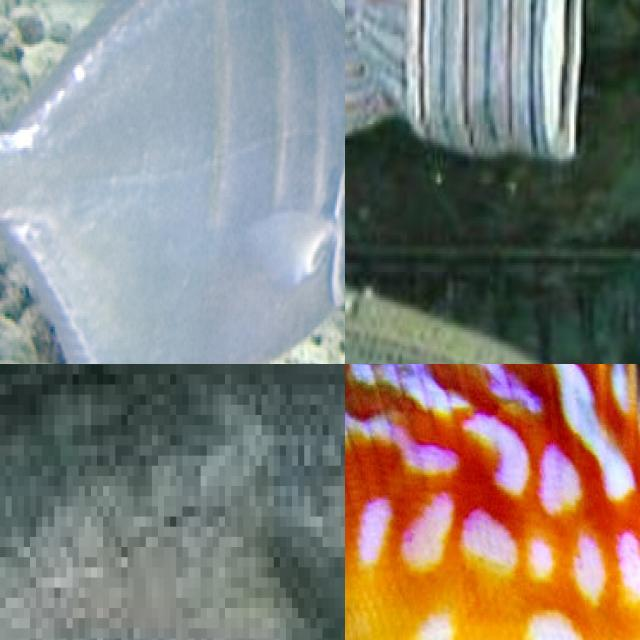fish: (0, 0, 345, 364), (0, 364, 345, 640), (345, 364, 640, 640), (345, 240, 640, 364)
